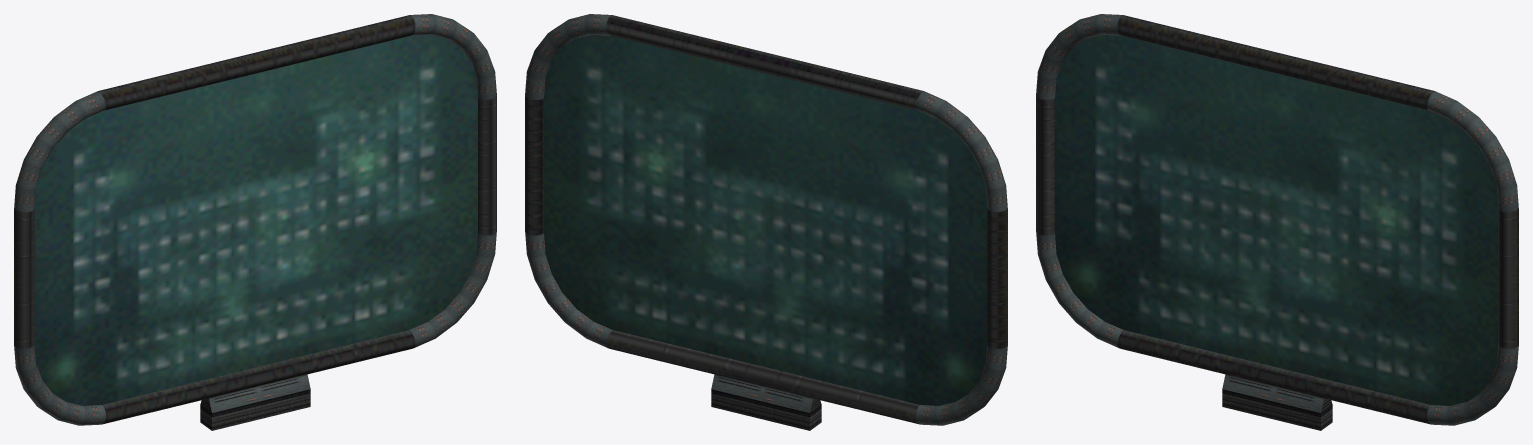
File: paineltransparente.fbx
3 renders of one model, left to right at view 1: azimuth 30°, elevation 25°; view 2: azimuth 150°, elevation 25°; view 3: azimuth 330°, elevation 25°, orthographic.
Parts seen in each view (by area): view 1: Cube.001, Cube; view 2: Cube.001, Cube; view 3: Cube.001, Cube.
Part boxes in pixels (x1,y1,x2,y2): Cube.001: [34, 35, 477, 405]; Cube: [14, 14, 496, 430]; Cube.001: [544, 35, 987, 405]; Cube: [525, 14, 1007, 430]; Cube.001: [1055, 35, 1498, 405]; Cube: [1036, 14, 1518, 430].
Bounding box in the file's own units: 2.63 × 1.89 × 0.1115.
